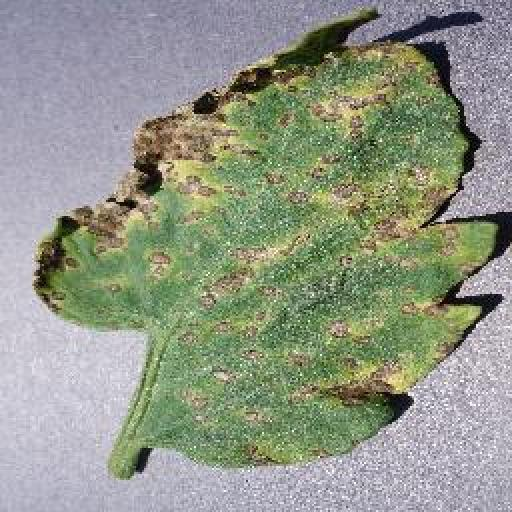Septoria: (39, 8, 500, 473)
